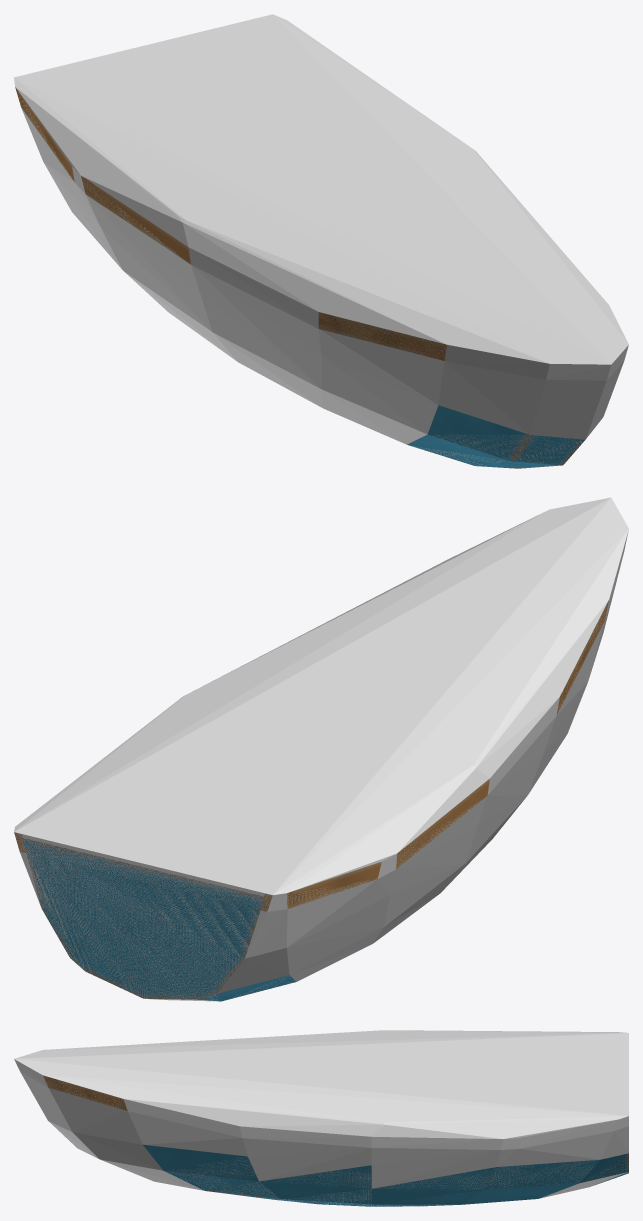
File: rowing_boat.glb
The picture shows the model from 3 angles, top to bottom: view 1: azimuth 30°, elevation 25°; view 2: azimuth 150°, elevation 25°; view 3: azimuth 270°, elevation 25°; orthographic projection. The views are drawn at different scales.
Parts seen in each view (by area): view 1: COL_rowing_boat_static_00, rowing_boat_static; view 2: COL_rowing_boat_static_00, rowing_boat_static; view 3: COL_rowing_boat_static_00, rowing_boat_static.
Part boxes in pixels (x1=…): COL_rowing_boat_static_00: x1=14, y1=14, x2=628, y2=465; rowing_boat_static: x1=15, y1=87, x2=585, y2=468; COL_rowing_boat_static_00: x1=14, y1=497, x2=628, y2=1001; rowing_boat_static: x1=14, y1=600, x2=608, y2=1001; COL_rowing_boat_static_00: x1=14, y1=1030, x2=628, y2=1206; rowing_boat_static: x1=43, y1=1075, x2=628, y2=1206.
Size of the model in its own units: 1.1 by 0.6523 by 2.82.
Materials: 2 (2 with a texture image).
